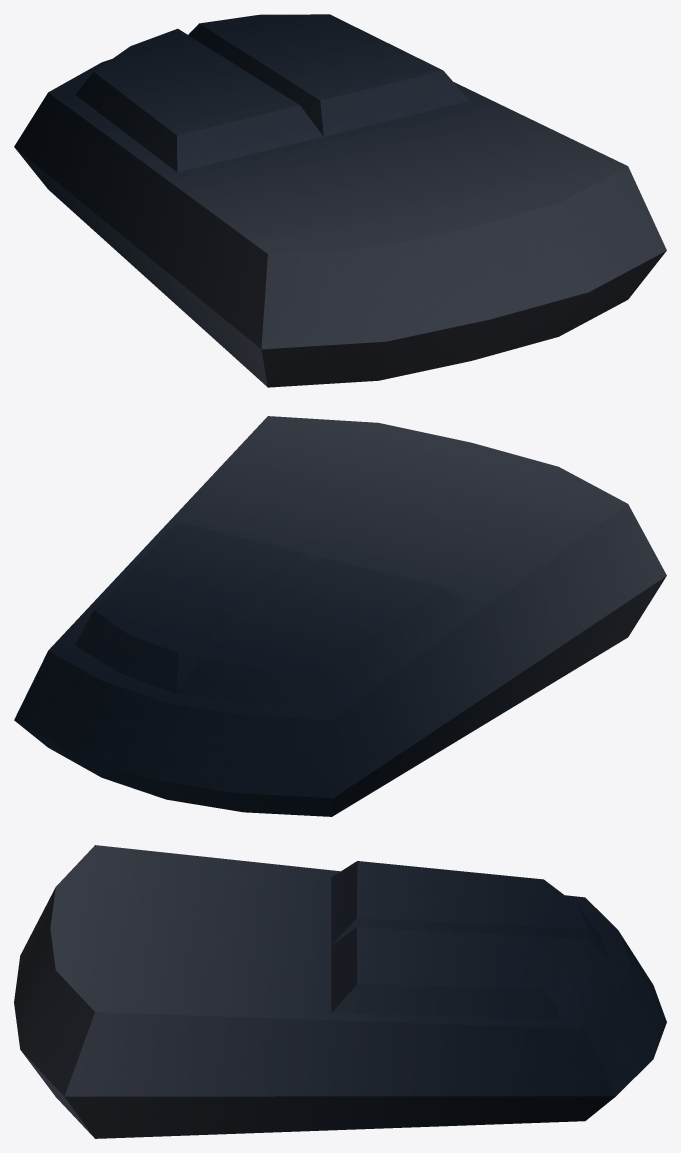
File: Mouse_01.fbx
The picture shows the model from 3 angles, top to bottom: view 1: azimuth 30°, elevation 25°; view 2: azimuth 150°, elevation 25°; view 3: azimuth 270°, elevation 25°; orthographic projection. The views are drawn at different scales.
Visible parts, largest first — view 1: Box004; view 2: Box004; view 3: Box004.
Part boxes in pixels (x1=…): Box004: x1=14, y1=14, x2=666, y2=387; Box004: x1=14, y1=416, x2=666, y2=816; Box004: x1=14, y1=845, x2=666, y2=1138.
Bounding box in the file's own units: 17.36 × 5.72 × 25.48.
